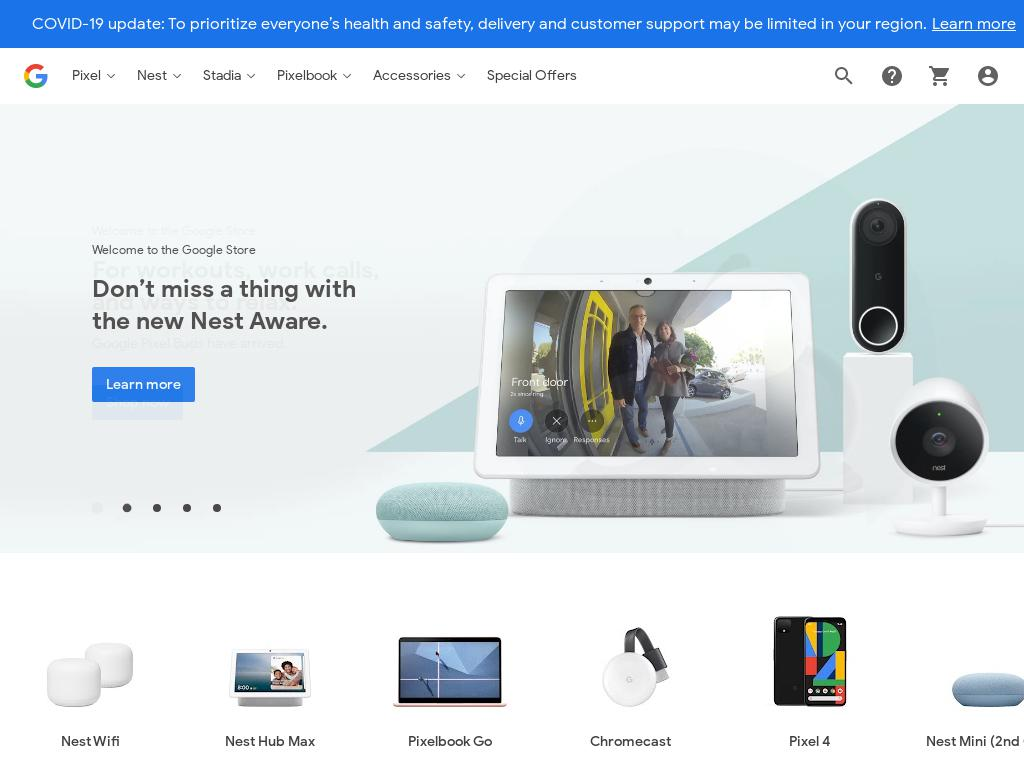button: (0, 603, 180, 768), (180, 603, 360, 768), (360, 603, 540, 768), (540, 603, 720, 768), (720, 603, 900, 768), (900, 603, 1024, 768), (92, 366, 196, 402), (373, 65, 467, 86), (487, 65, 577, 86), (277, 65, 353, 86), (203, 65, 257, 86), (137, 65, 183, 86), (72, 65, 117, 86), (24, 63, 48, 92), (832, 63, 856, 88), (976, 63, 1000, 88), (880, 67, 904, 88), (928, 64, 952, 85), (91, 502, 102, 513), (123, 504, 134, 515), (153, 504, 164, 515), (183, 504, 194, 515), (213, 504, 224, 515)
image: (0, 104, 1024, 554), (0, 104, 1024, 546), (30, 603, 150, 724), (210, 603, 330, 724), (390, 603, 510, 724), (570, 603, 690, 724), (750, 603, 870, 724), (930, 603, 1024, 724), (24, 63, 48, 88), (832, 63, 856, 88), (880, 63, 904, 88), (928, 63, 952, 88), (976, 63, 1000, 88), (91, 502, 102, 513), (123, 504, 134, 515), (153, 504, 164, 515), (183, 504, 194, 515), (213, 504, 224, 515)
link: (932, 14, 1016, 34)
text: (92, 272, 400, 337), (32, 14, 927, 34), (92, 240, 400, 258), (215, 733, 325, 752), (915, 733, 1024, 752), (398, 733, 502, 752), (579, 733, 681, 752), (106, 374, 182, 394), (50, 733, 130, 752), (779, 733, 841, 752)
